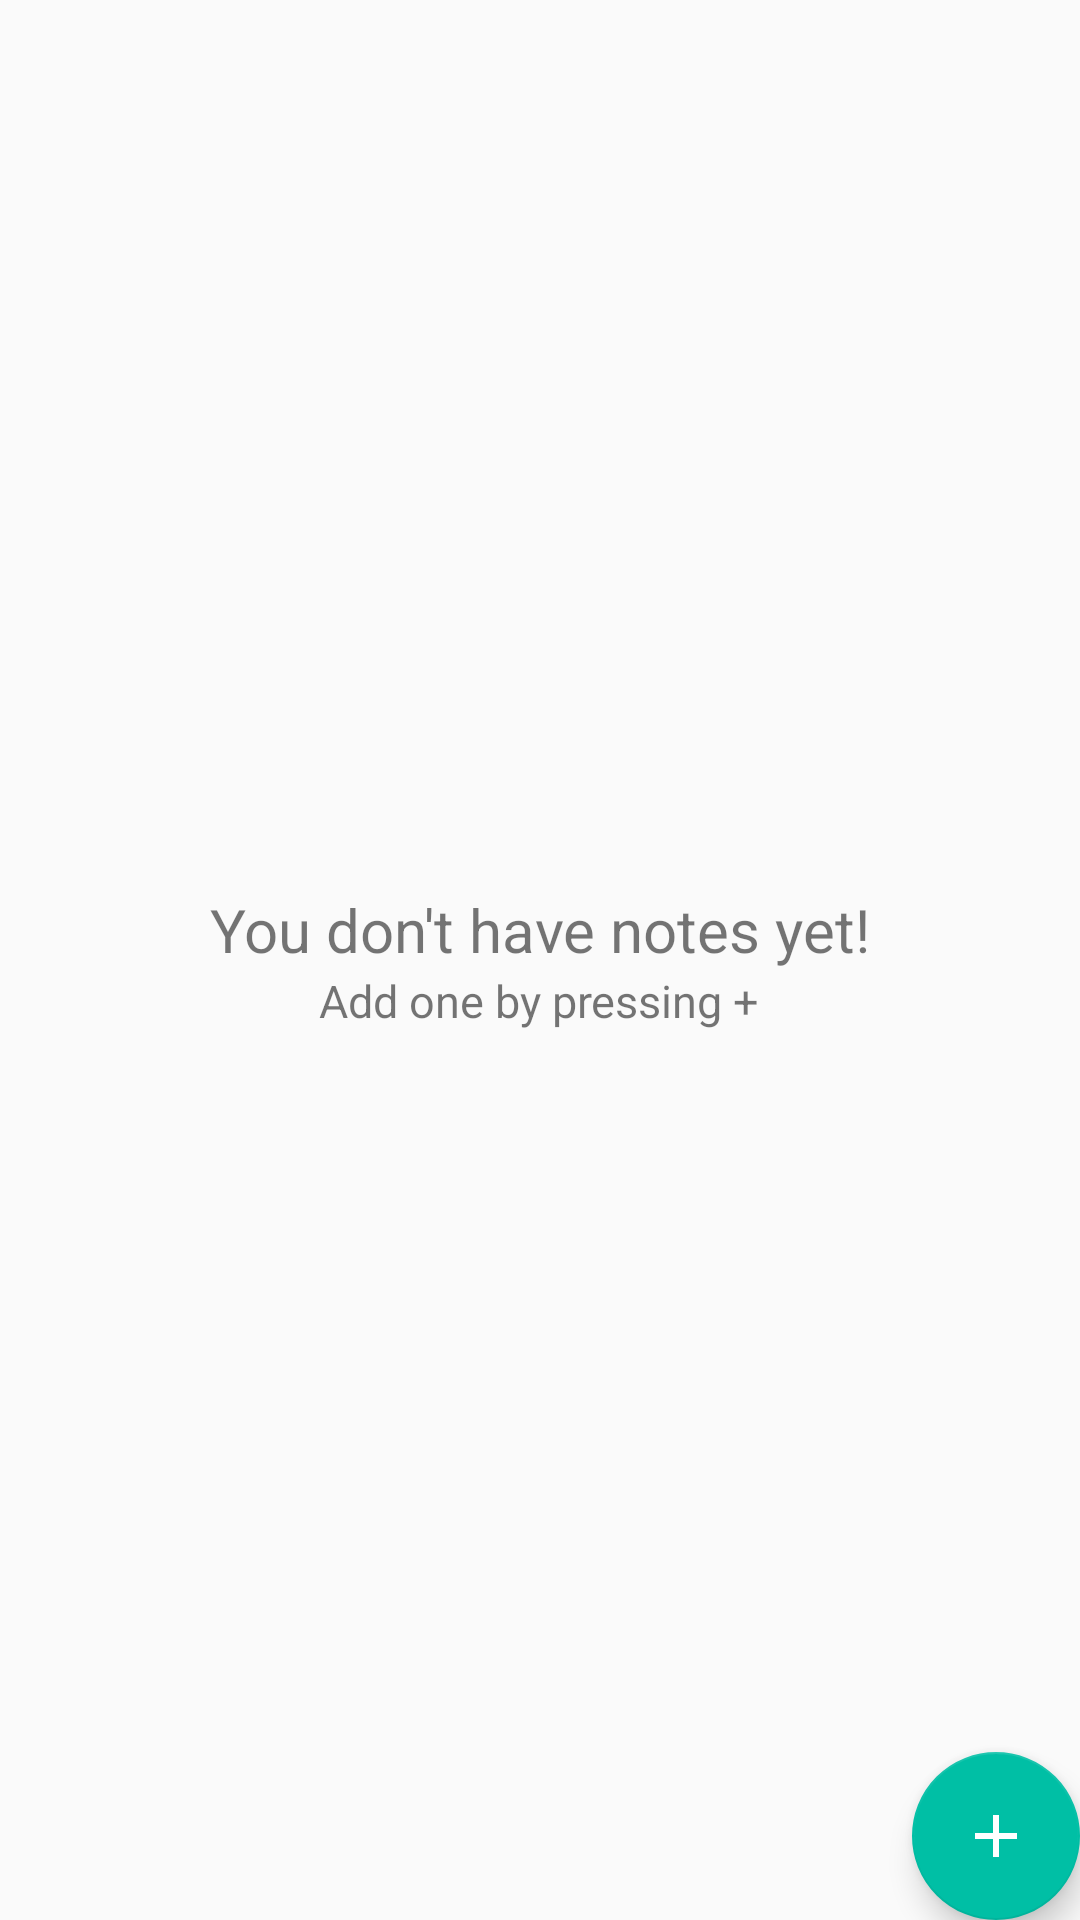

Where icons sit on this 1080 × 1920 app screen, as (x1, y1, x2, y2):
add: (912, 1752, 1080, 1920)
